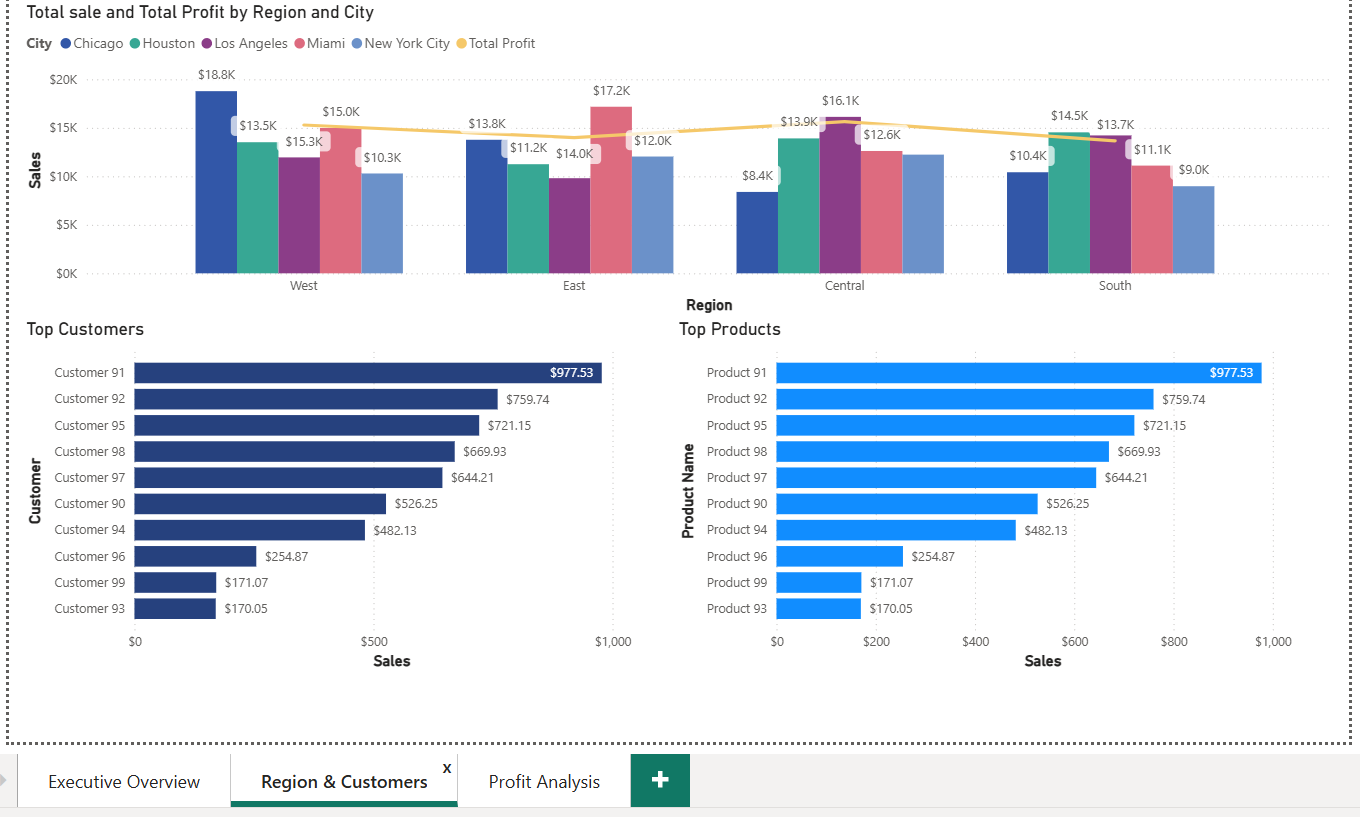

The dashboard page shown, as its layout file describes it:
{"tool":"powerbi","page":{"name":"Region & Customers","canvas":[1280,720],"ordinal":1},"visuals":[{"type":"lineClusteredColumnComboChart","fields":{"Category":["Cleaned_Sales.Region"],"Y":["Measures_Tbl.Total sale"],"Y2":["Measures_Tbl.Total Profit"],"Series":["Cleaned_Sales.City"]},"box":[11.5,12.9,1256.2,302.2],"z":0},{"type":"clusteredBarChart","title":"Top Customers","fields":{"Y":["Measures_Tbl.Total sale"],"Category":["Cleaned_Sales.Customer Name"]},"box":[11.5,315.1,623.1,339.5],"z":1000},{"type":"barChart","title":"Top Products","fields":{"Category":["Cleaned_Sales.Product Name"],"Y":["Measures_Tbl.Total sale"]},"box":[634.5,315.1,630.3,339.5],"z":2000}]}

Visuals, with their boxes on the page's 1280x720 design canvas (x1, y1, x2, y2). These are canvas units, not pixel positions in the 1360x820 screenshot, which may show the page scaled, cropped or inside an application window:
lineClusteredColumnComboChart - Cleaned_Sales.Region x Measures_Tbl.Total sale: bbox=(12, 13, 1268, 315)
"Top Customers" clusteredBarChart: bbox=(12, 315, 635, 655)
"Top Products" barChart: bbox=(634, 315, 1265, 655)
